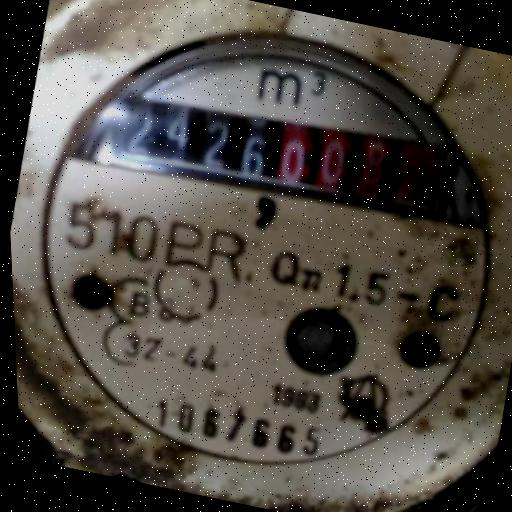0: (304, 125, 358, 196), (266, 119, 320, 187)
2: (383, 141, 436, 211), (189, 107, 241, 173), (115, 93, 165, 158)
4: (151, 100, 203, 166)
6: (226, 115, 279, 181)
8: (341, 133, 399, 203)
border_water_meter_number: (105, 78, 446, 223)
